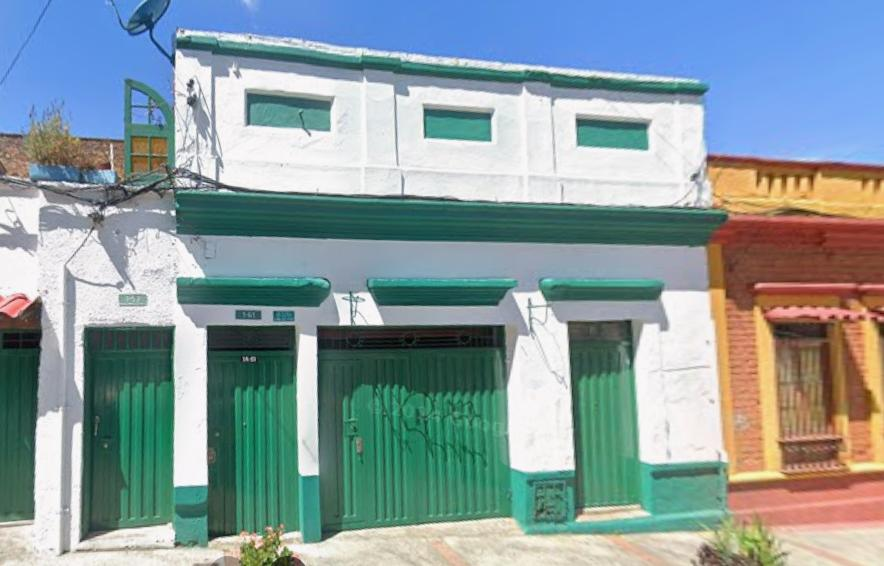casa: (31, 29, 727, 549), (708, 155, 883, 523)
